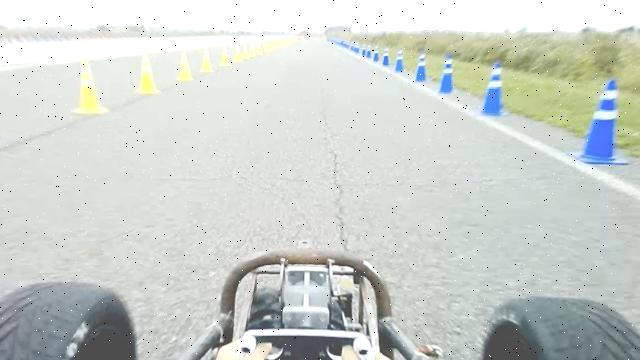blue cone: (568, 78, 630, 165), (480, 60, 508, 116), (437, 54, 455, 94), (414, 52, 428, 82), (394, 49, 405, 72), (382, 47, 390, 66), (372, 46, 380, 62)
yellow cone: (72, 57, 109, 114), (136, 54, 160, 94), (177, 48, 194, 80), (200, 46, 214, 73), (219, 45, 231, 66), (233, 43, 243, 62), (249, 42, 257, 58), (242, 43, 250, 59), (256, 41, 264, 56), (264, 39, 272, 53), (272, 39, 279, 51)
